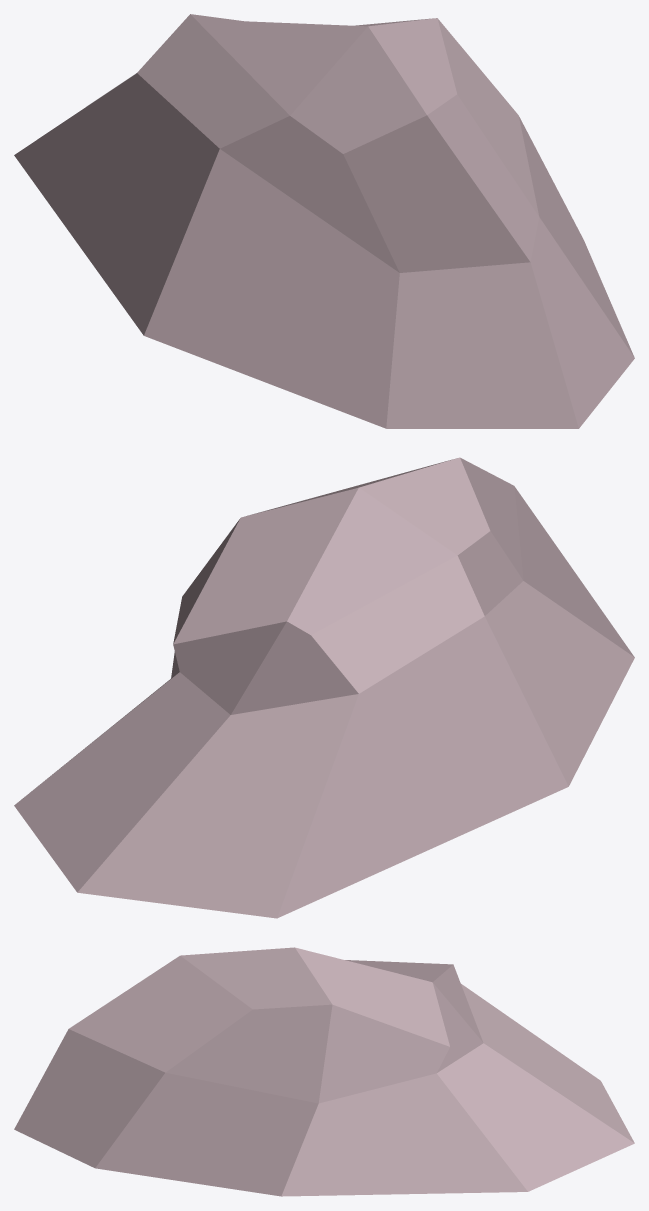
The model's file is a_rock3.fbx.
3 renders of one model, top to bottom at view 1: azimuth 30°, elevation 25°; view 2: azimuth 150°, elevation 25°; view 3: azimuth 270°, elevation 25°, orthographic. The views are drawn at different scales.
Visible parts, largest first — view 1: pCube1; view 2: pCube1; view 3: pCube1.
Boxes of the visible parts, left/top/right/bottom form: pCube1: left=14, top=14, right=634, bottom=428; pCube1: left=14, top=457, right=634, bottom=918; pCube1: left=14, top=947, right=634, bottom=1196.
Size of the model in its own units: 11.2 by 6.43 by 20.22.
